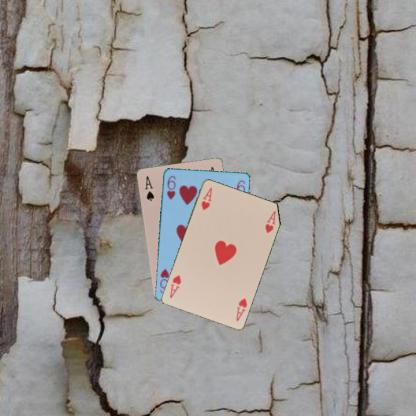6h: (164, 173, 177, 200)
Ah: (234, 296, 249, 323), (199, 185, 213, 211)
As: (142, 173, 155, 202)
